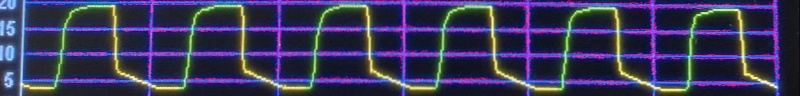normal_pressure: (25, 0, 774, 96)
